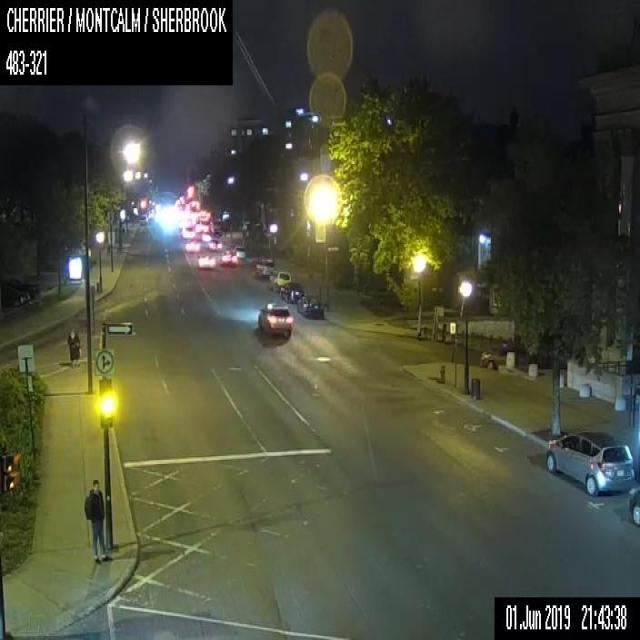pedestrian: (84, 480, 110, 563), (66, 329, 79, 367)
vehicle: (544, 429, 634, 494), (257, 302, 292, 338), (3, 278, 38, 298), (296, 294, 324, 318), (0, 285, 28, 307), (279, 281, 304, 302), (268, 269, 290, 292), (480, 349, 506, 368), (628, 489, 639, 525), (254, 257, 274, 276), (219, 250, 237, 266), (198, 253, 215, 267), (231, 244, 244, 257), (207, 238, 221, 250), (184, 239, 198, 251), (138, 214, 147, 223)
